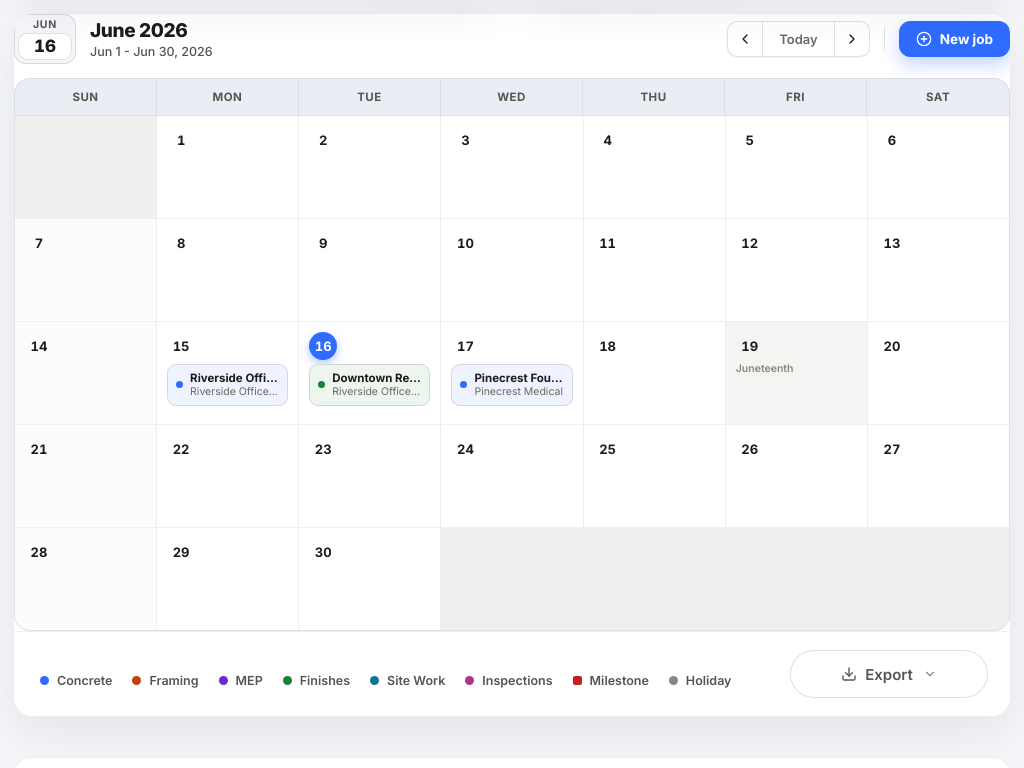
Test: When somebody else got there first › says who moved what, refreshes the board, and does not offer to force it
(page scrolled)
Click the button titled "Pinecrest Foundations · Foundations": click(512, 385) [451, 364, 573, 406]
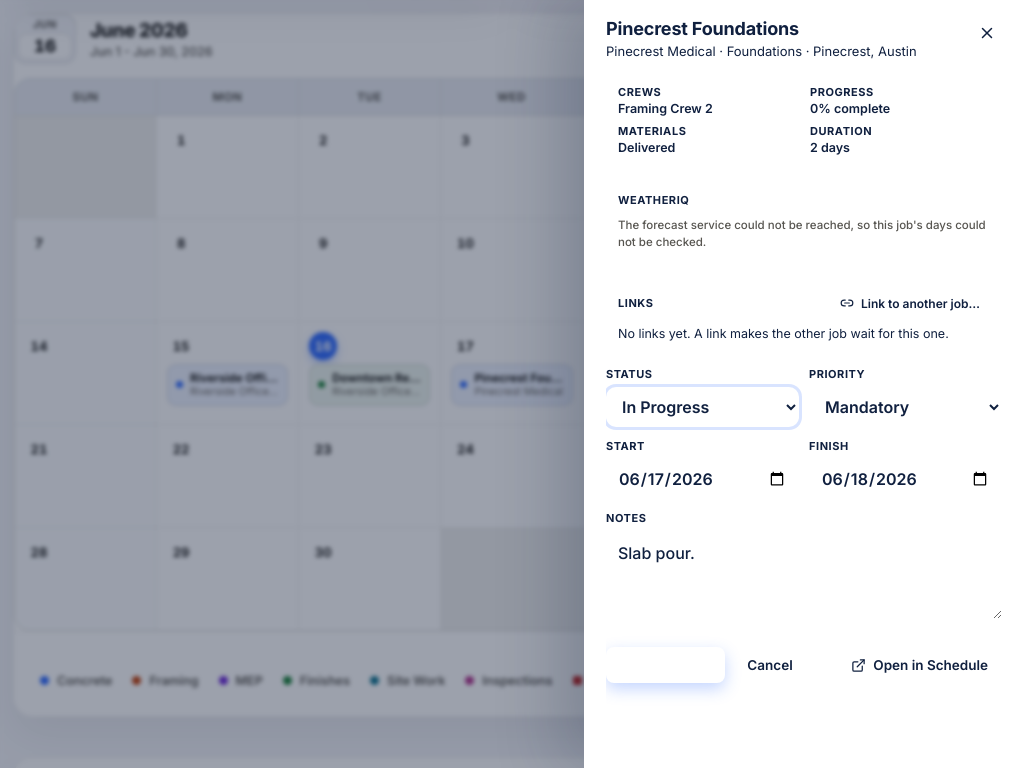
Select "Confirmed" in the dropdown labelled "Status": (702, 407) [606, 387, 799, 427]
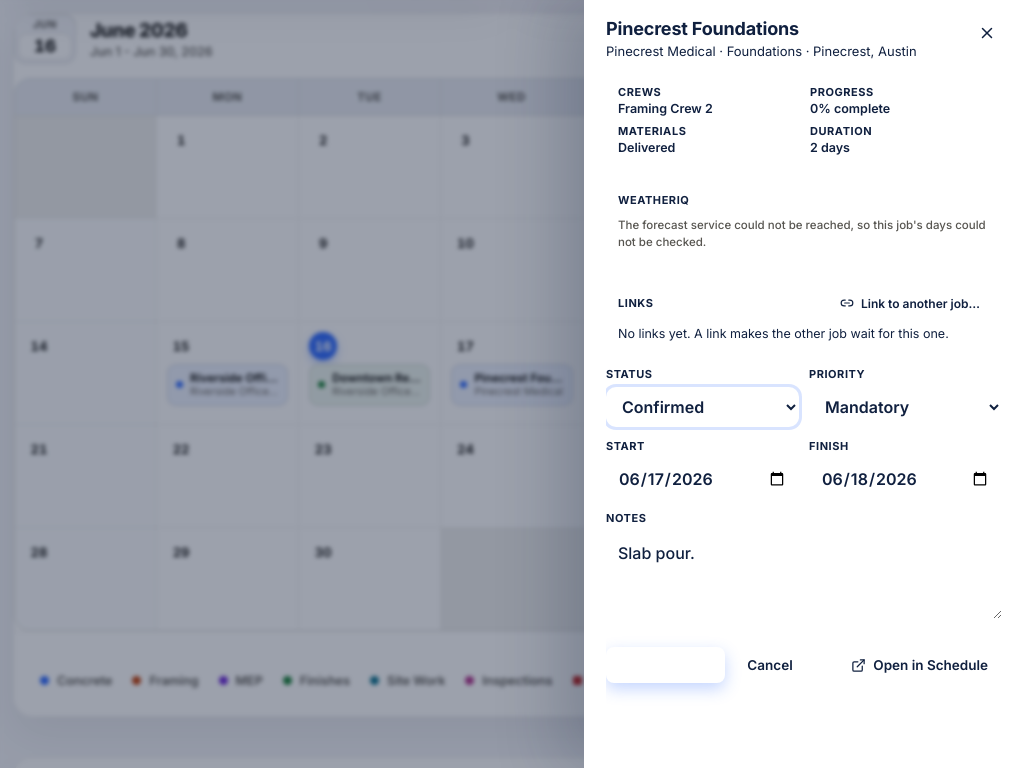
Click the button "Save changes": click(666, 665) [606, 647, 725, 683]
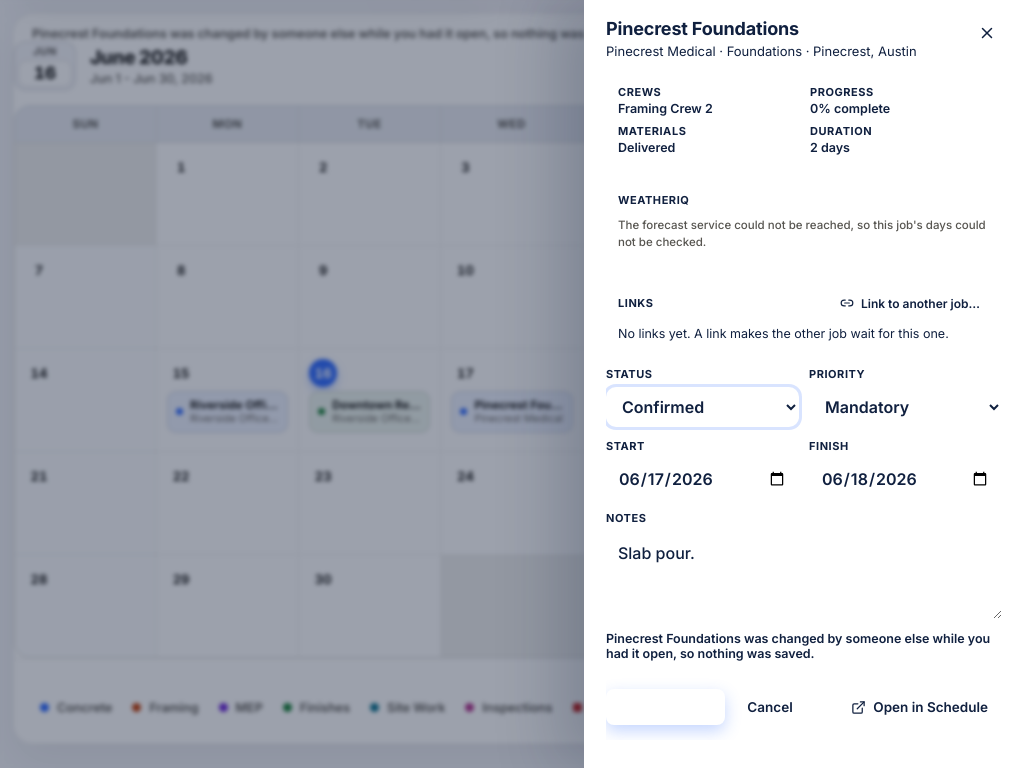
Check: the dialog "Pinecrest Foundations" is shown, box [584, 0, 1023, 767]
Check: the message shows "was changed by someone else while you had it open", box [606, 631, 990, 661]
Check: the text with class "gantt-status" shows "was changed by someone else while you had it open", box [32, 26, 628, 41]
